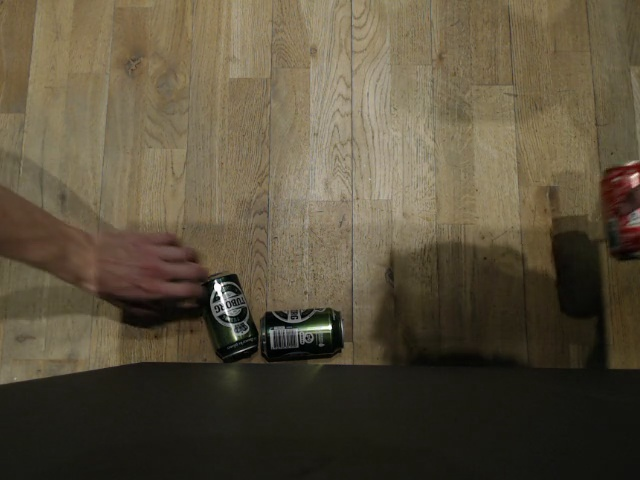beer: (190, 269, 258, 362), (260, 305, 343, 362)
cola: (599, 160, 640, 258)
